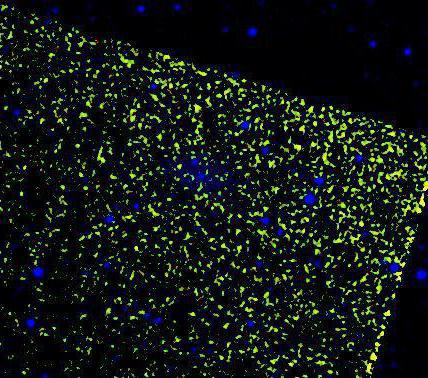star: (154, 184, 184, 214)
